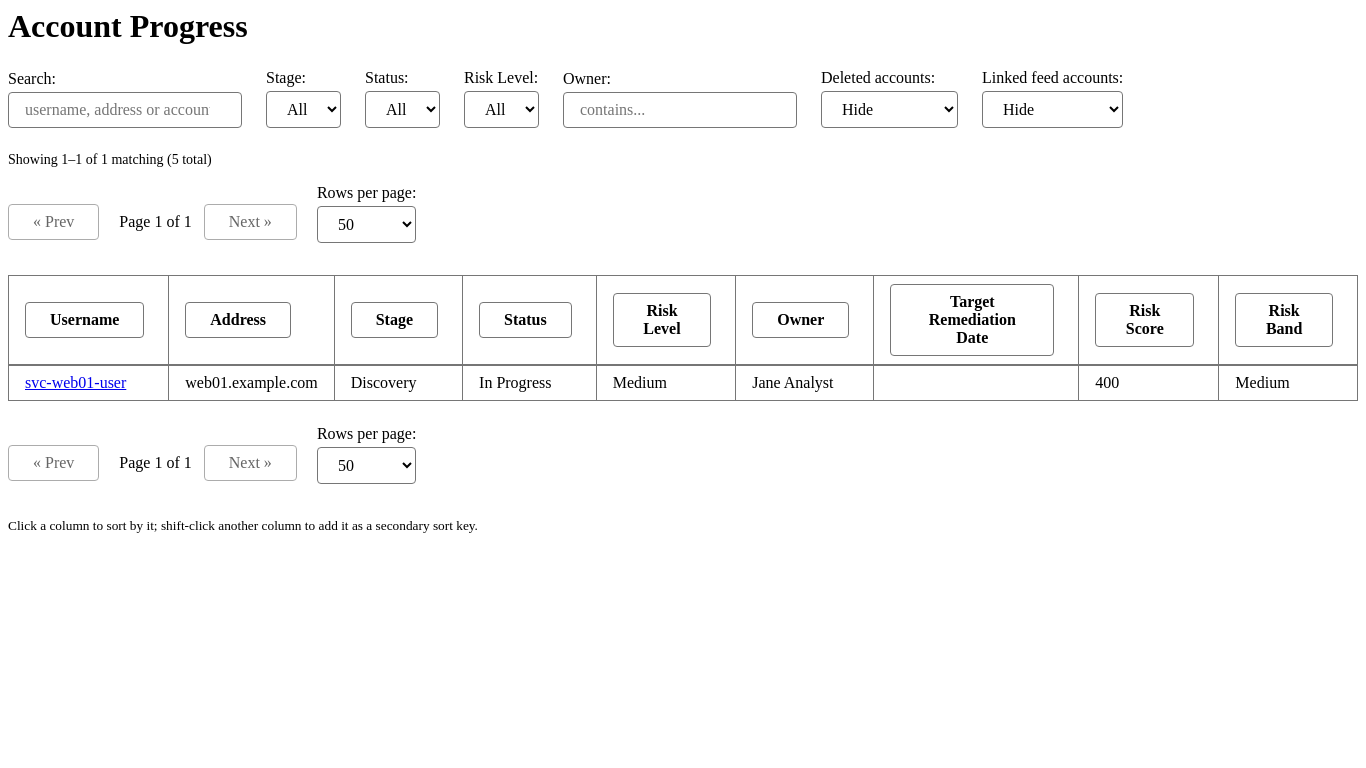
it: AccountProgressList.vue › offers Clear filters only while a filter is set, and clearing reloads once with the defaults
Type "web01" into the search field labelled "Search:" at coordinates (125, 110), box [8,92,242,128]
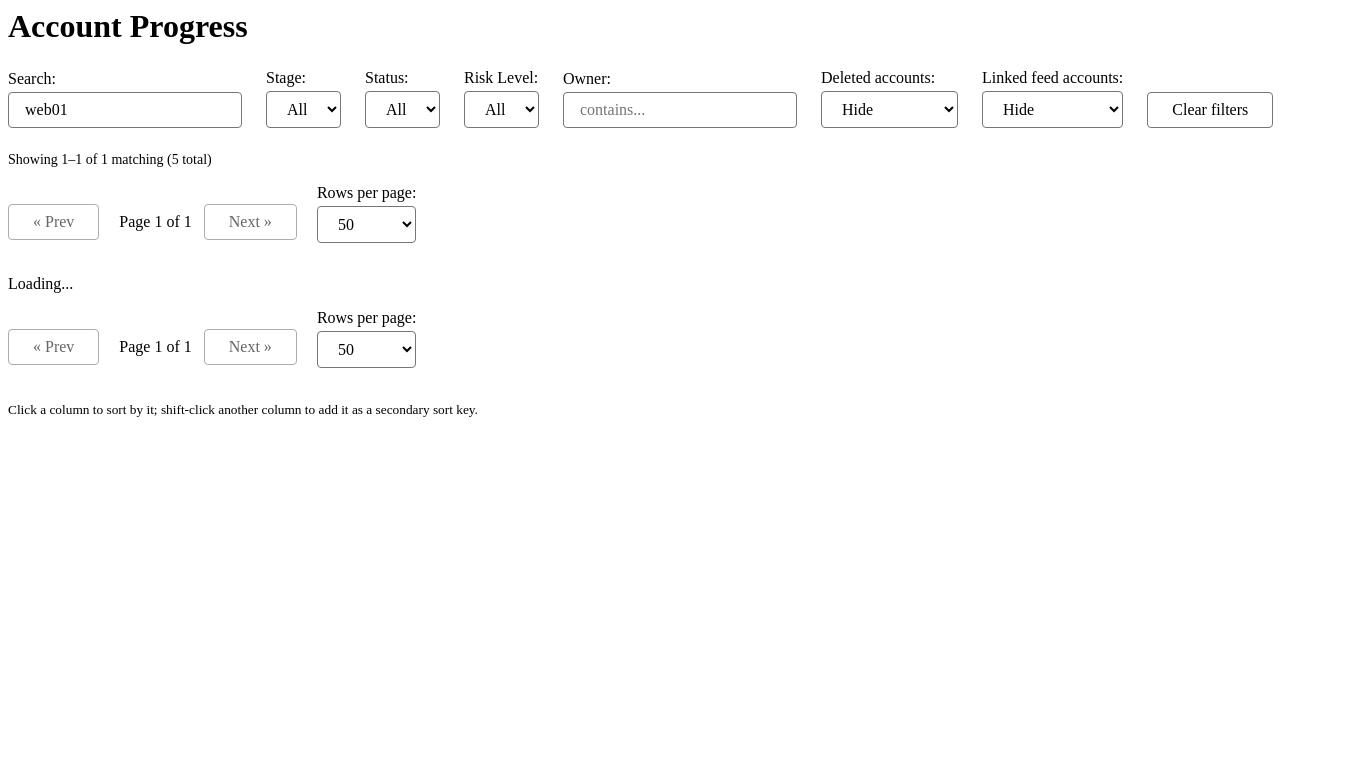
Select "Show" in the dropdown labelled "Deleted accounts:" at coordinates (890, 110), box [821,91,958,128]
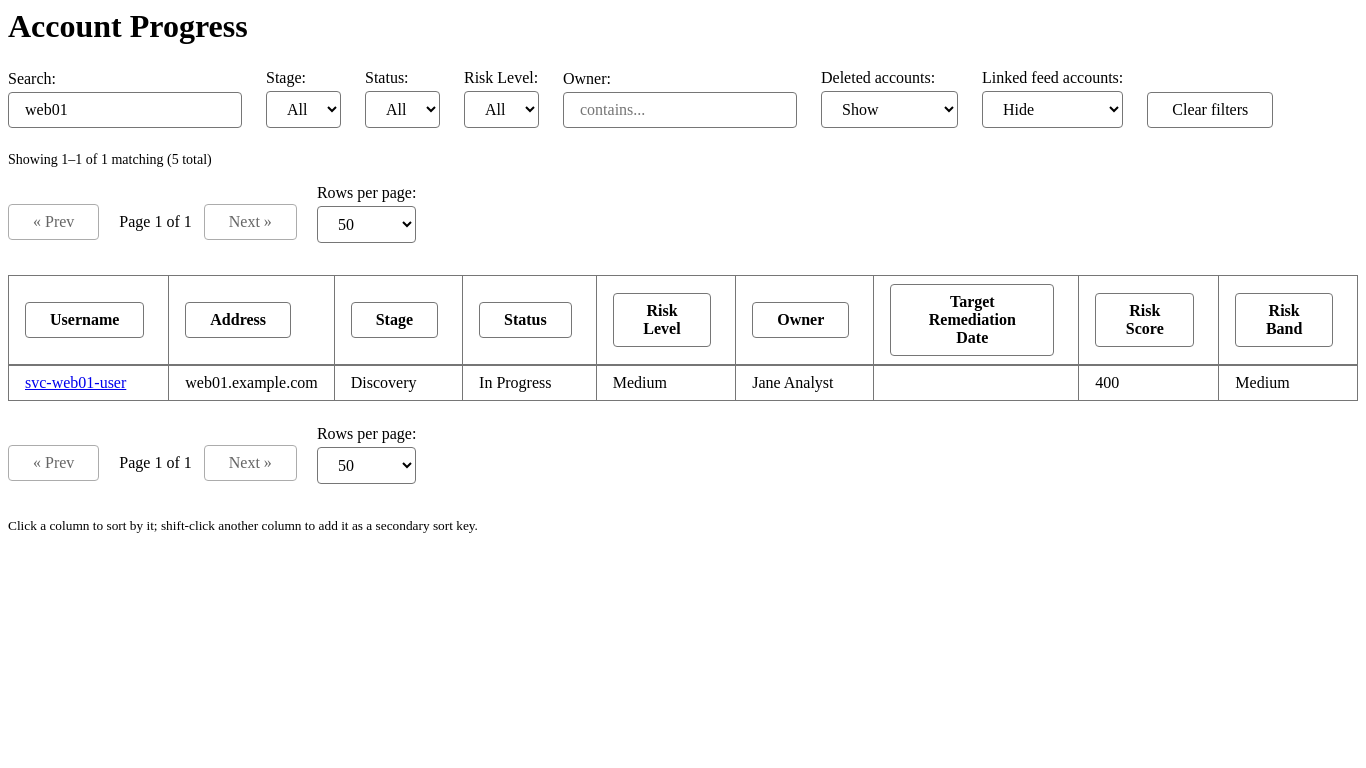
expect the button "Clear filters" is shown: met
Click the button "Clear filters" at coordinates (1210, 110), box [1147,92,1273,128]
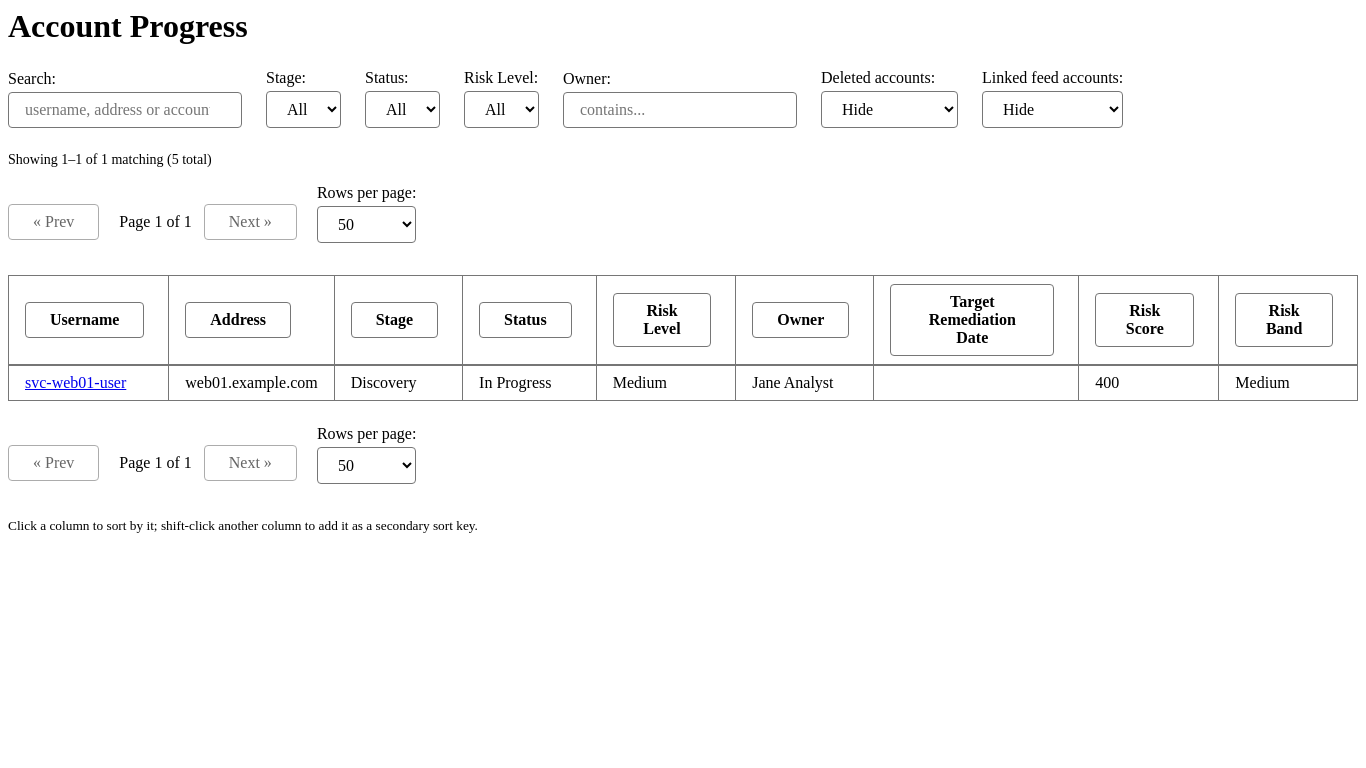
expect the search field labelled "Search:" is empty: met, box [8,92,242,128]
